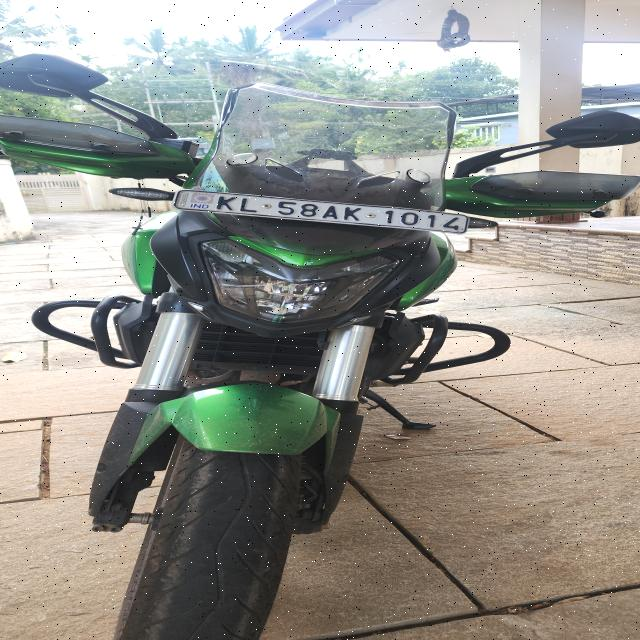headlight: (196, 237, 404, 326)
